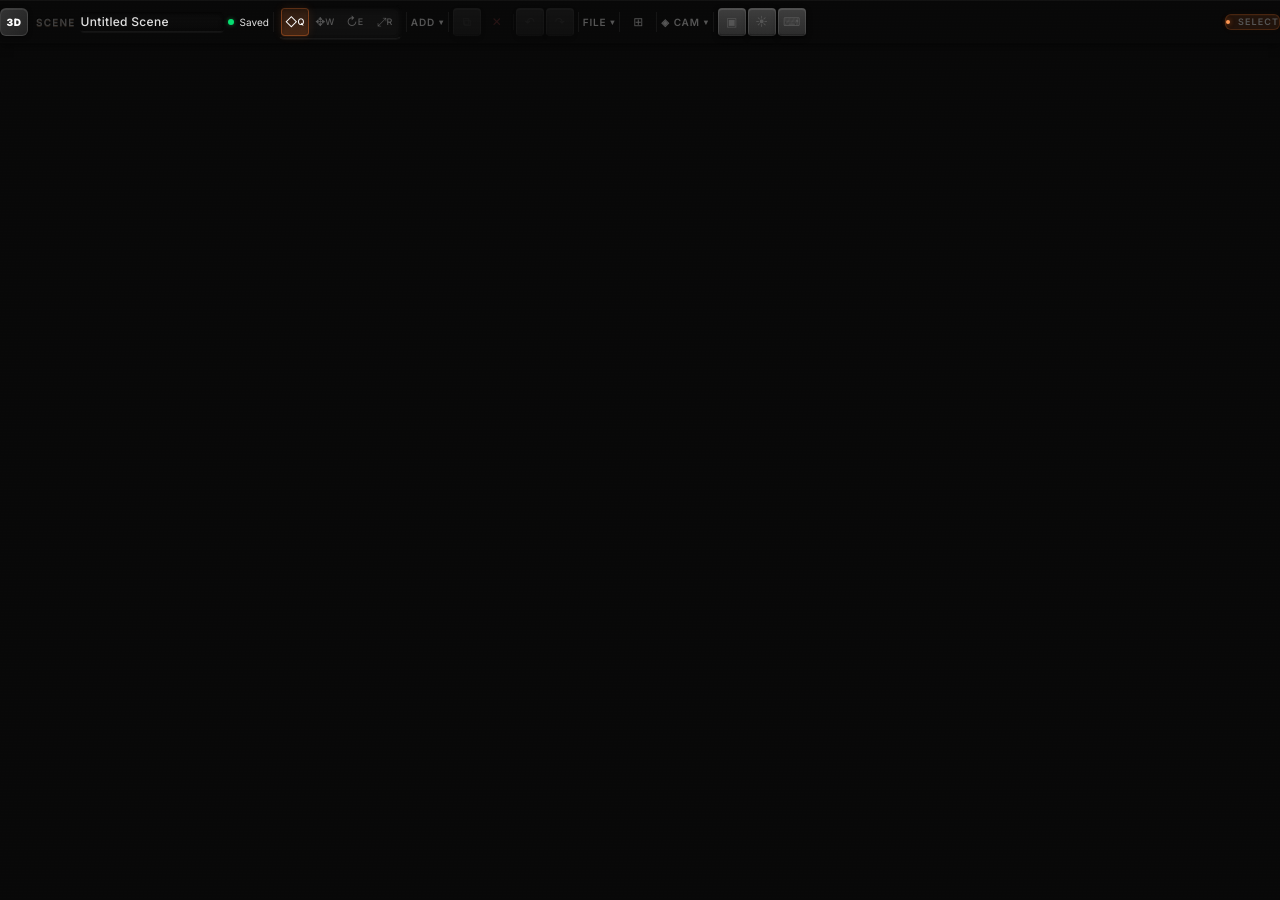
Test: Toolbar › Theme toggle › clicking theme toggle changes aria-label
Click the button named "Switch to light theme" at x=762, y=22, box x1=748 y1=8 x2=776 y2=36
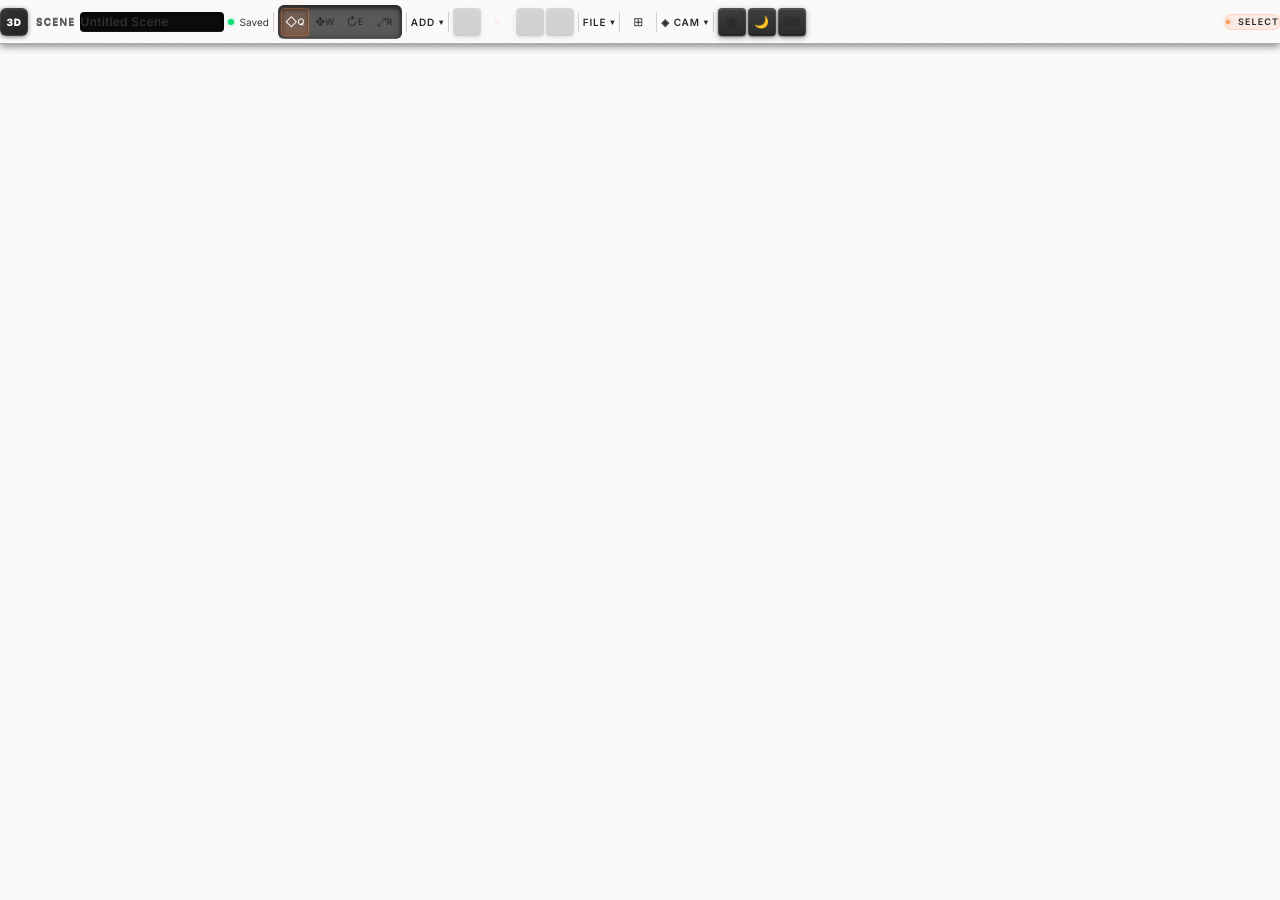
Check: the button named "Switch to dark theme" is shown, box x1=748 y1=8 x2=776 y2=36
